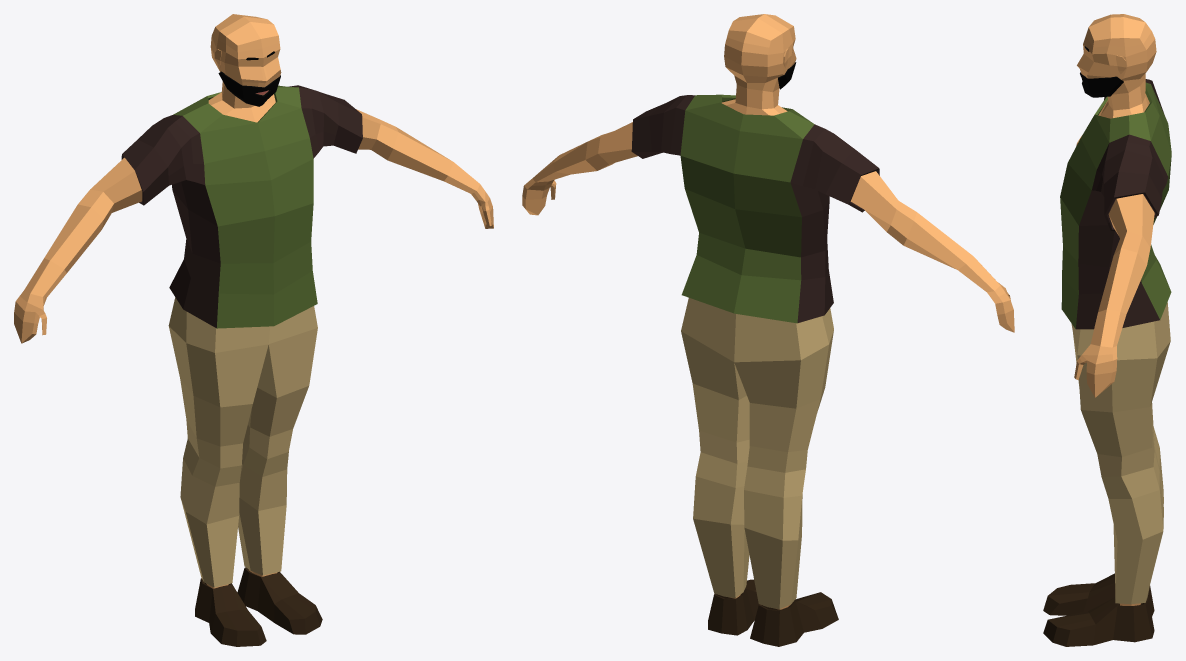
Rendered from Npc7.fbx.
3 renders of one model, left to right at view 1: azimuth 30°, elevation 25°; view 2: azimuth 150°, elevation 25°; view 3: azimuth 270°, elevation 25°, orthographic. The views are drawn at different scales.
Parts seen in each view (by area): view 1: Body.006; view 2: Body.006; view 3: Body.006.
Boxes of the visible parts, box(x1,y1,x2,y2) form: Body.006: box(14, 14, 493, 646); Body.006: box(522, 14, 1014, 646); Body.006: box(1043, 14, 1171, 646).
Bounding box in the file's own units: 537 × 646 × 124.
